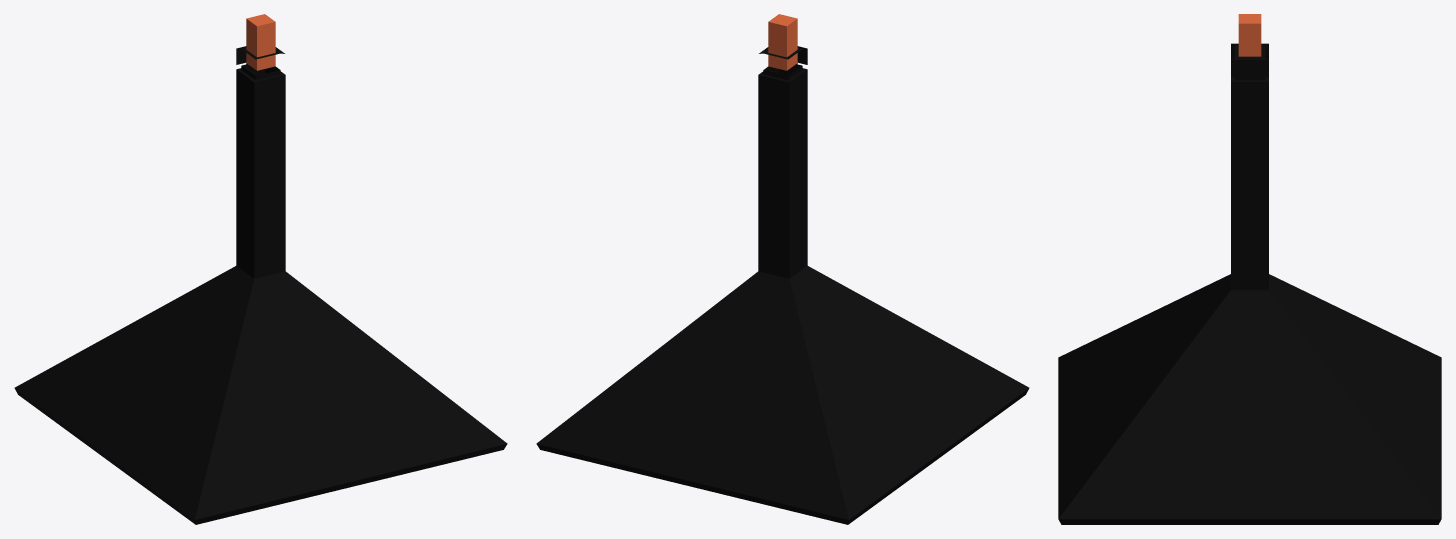
File: item_potion_3.fbx
The picture shows the model from 3 angles, left to right: view 1: azimuth 30°, elevation 25°; view 2: azimuth 150°, elevation 25°; view 3: azimuth 270°, elevation 25°; orthographic projection. The views are drawn at different scales.
Visible parts, largest first — view 1: ItemPotion3; view 2: ItemPotion3; view 3: ItemPotion3.
Part boxes in pixels (box(x1,y1,x2,y2)): ItemPotion3: box(14, 14, 507, 524); ItemPotion3: box(536, 14, 1029, 524); ItemPotion3: box(1058, 14, 1441, 524).
Size of the model in its own units: 482 by 592 by 482.
